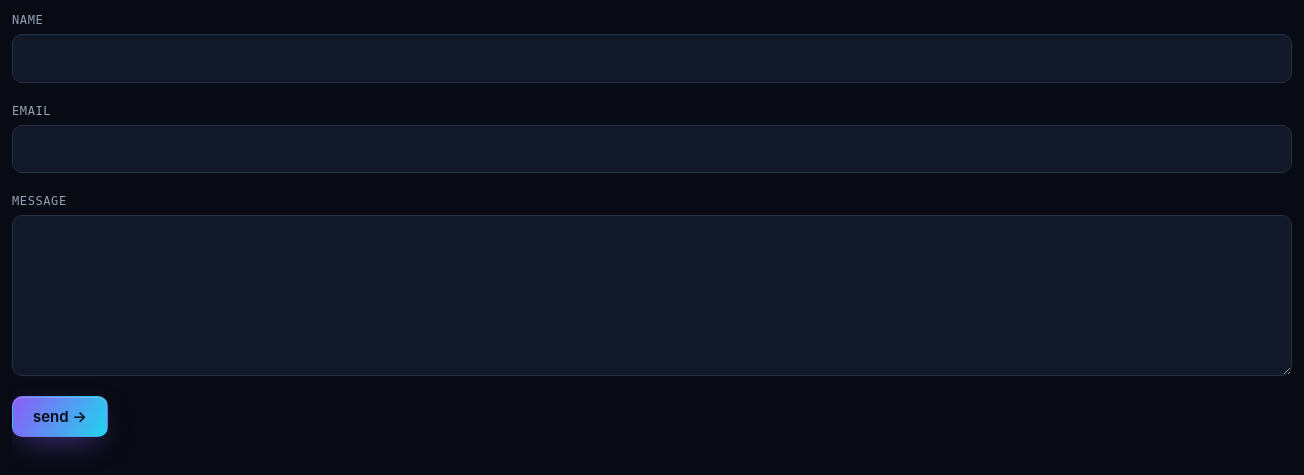
ContactForm › submits valid data and shows the success message
Type "Ada Lovelace" into the field labelled "name".
click(652, 58); type("Ada Lovelace")  # box [12, 34, 1292, 82]
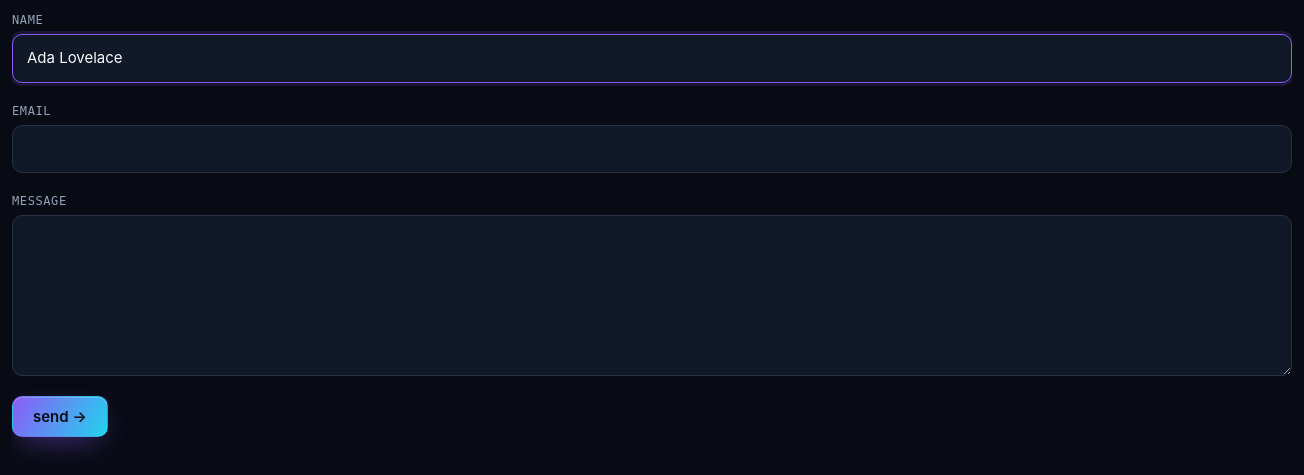
Type "ada@example.com" into the field labelled "email".
click(652, 149); type("ada@example.com")  # box [12, 124, 1292, 173]
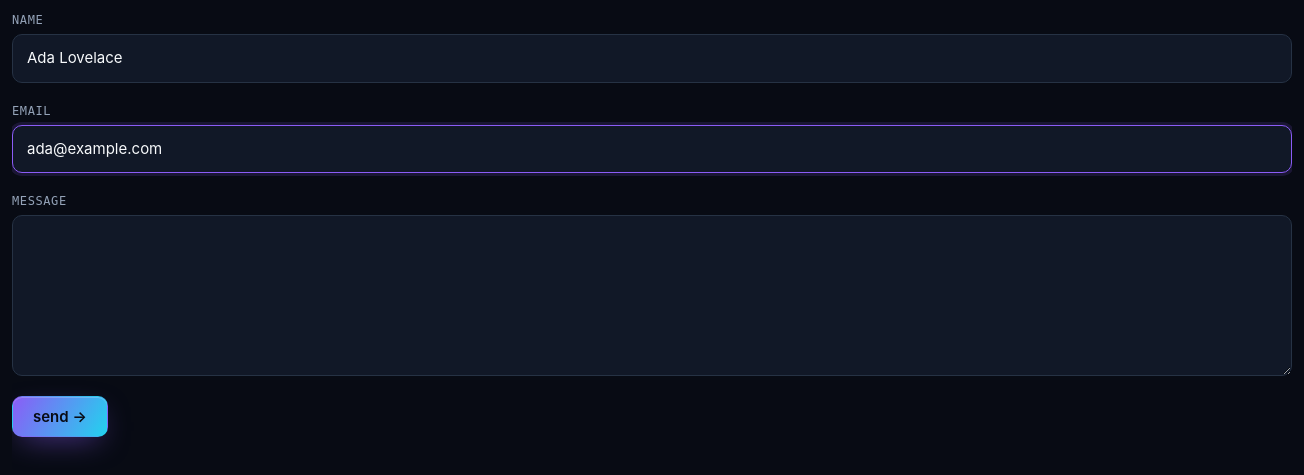
Type "Hello there, this is a real message." into the text box labelled "message".
click(652, 296); type("Hello there, this is a real message.")  # box [12, 215, 1292, 376]
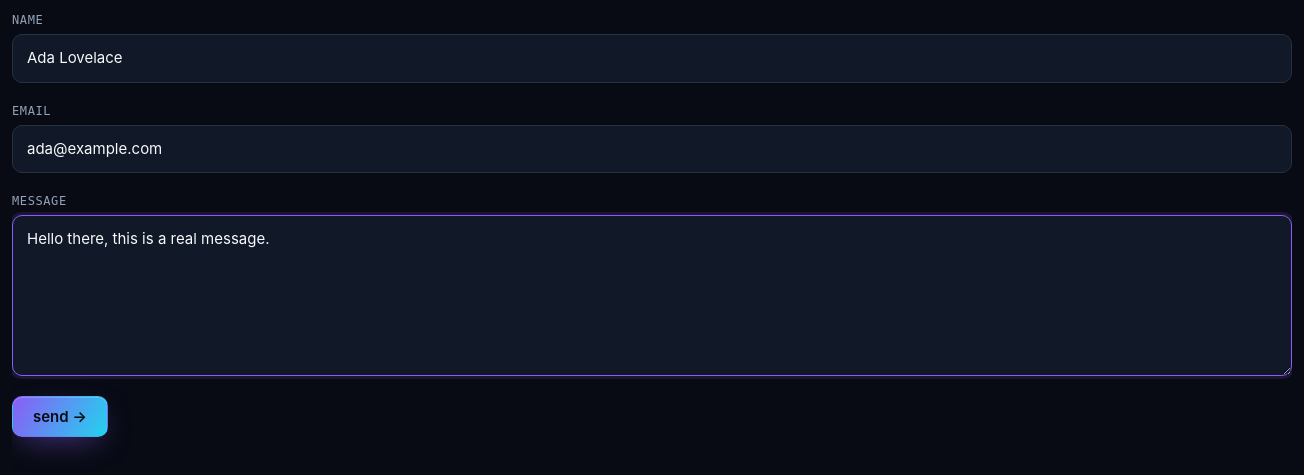
Click the button "send →".
click(60, 416)  # box [12, 396, 108, 437]
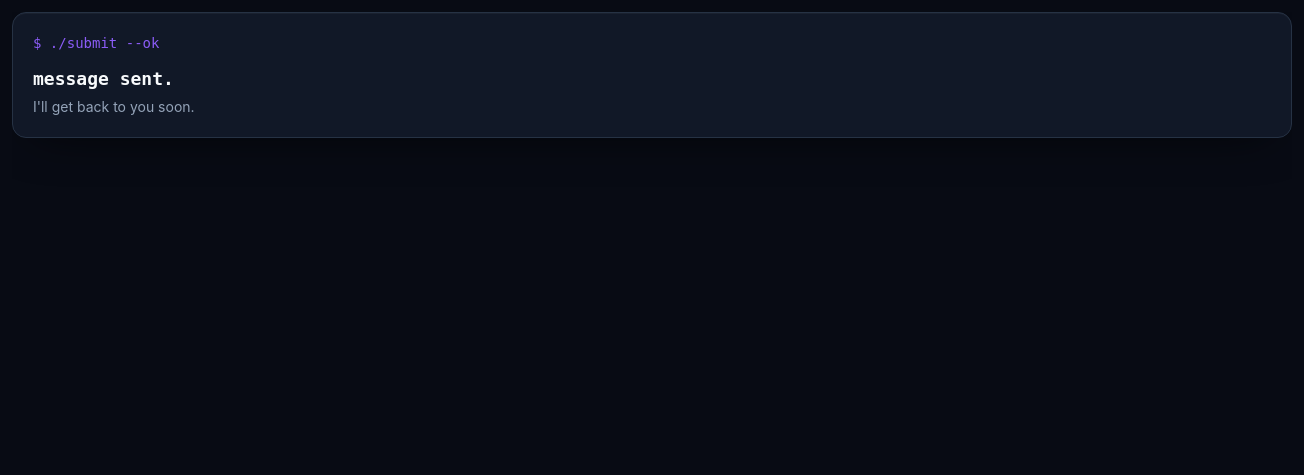
Now the message with test id "contact-success" shows "message sent", box [33, 68, 174, 89]
